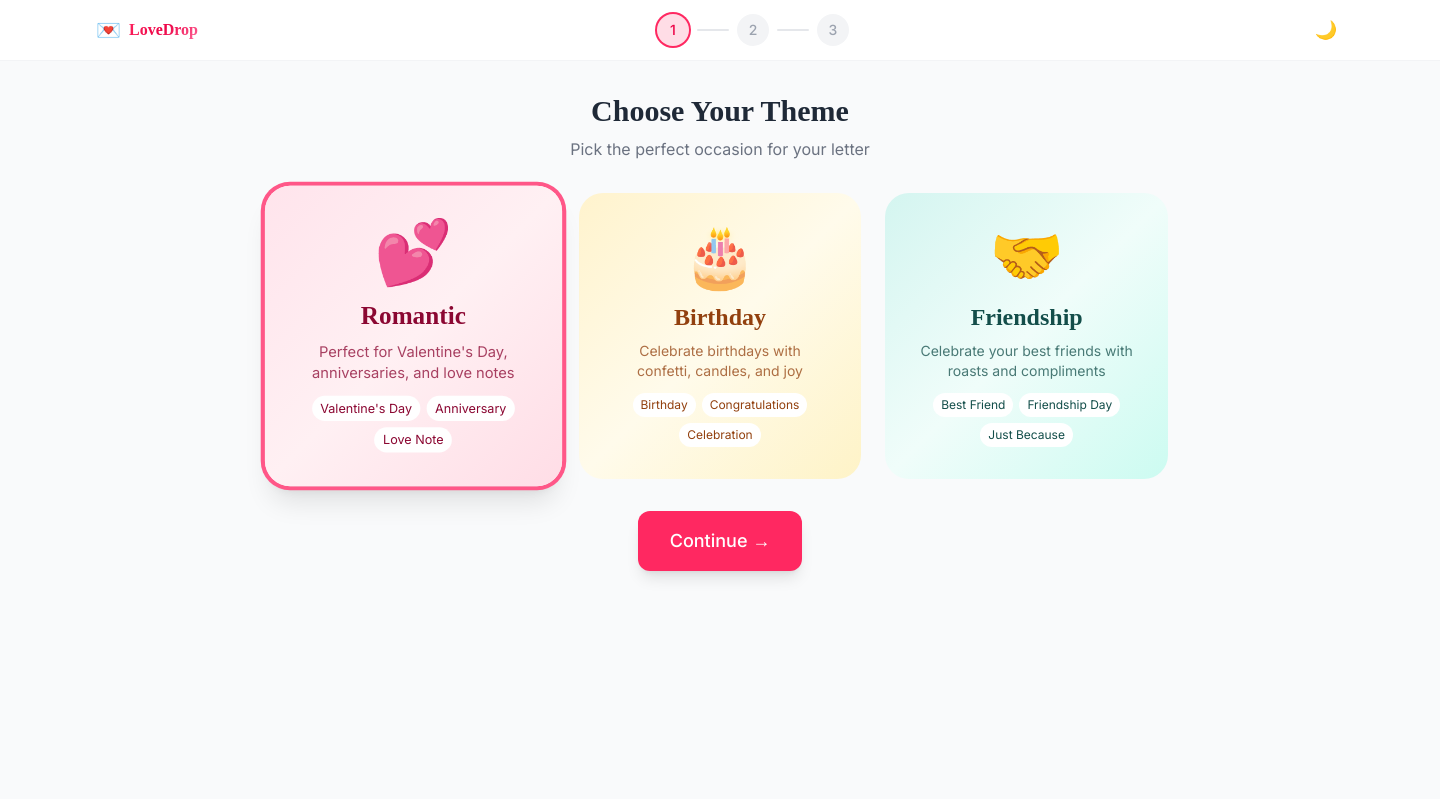
it: Create flow - Step 2: Letter editing › updates character count as user types
Click the button "Continue →" at (720,541), box 638,511 -> 802,571
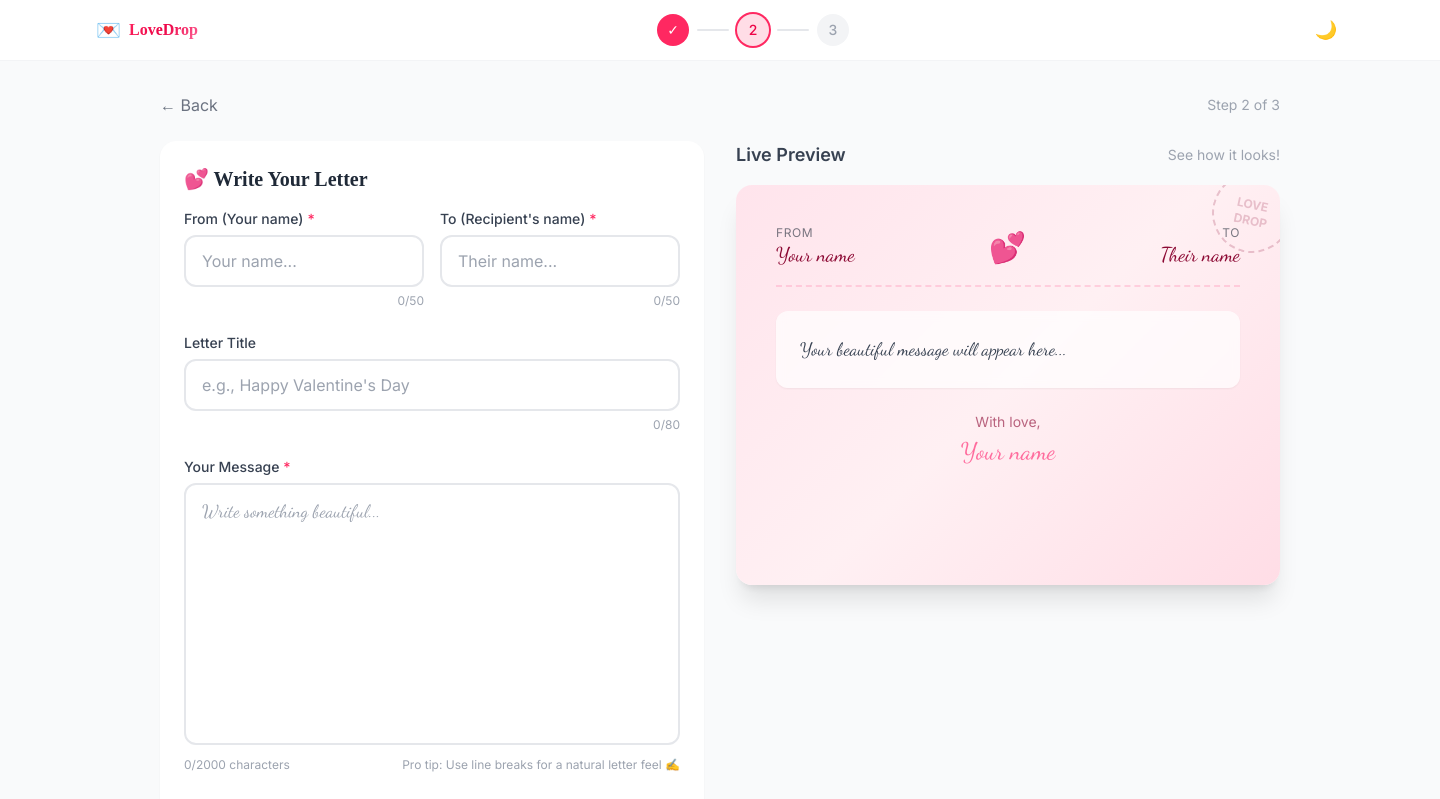
Type "Hello there!" into the text box with placeholder "Write something beautiful..." at (432,614), box 184,483 -> 680,745
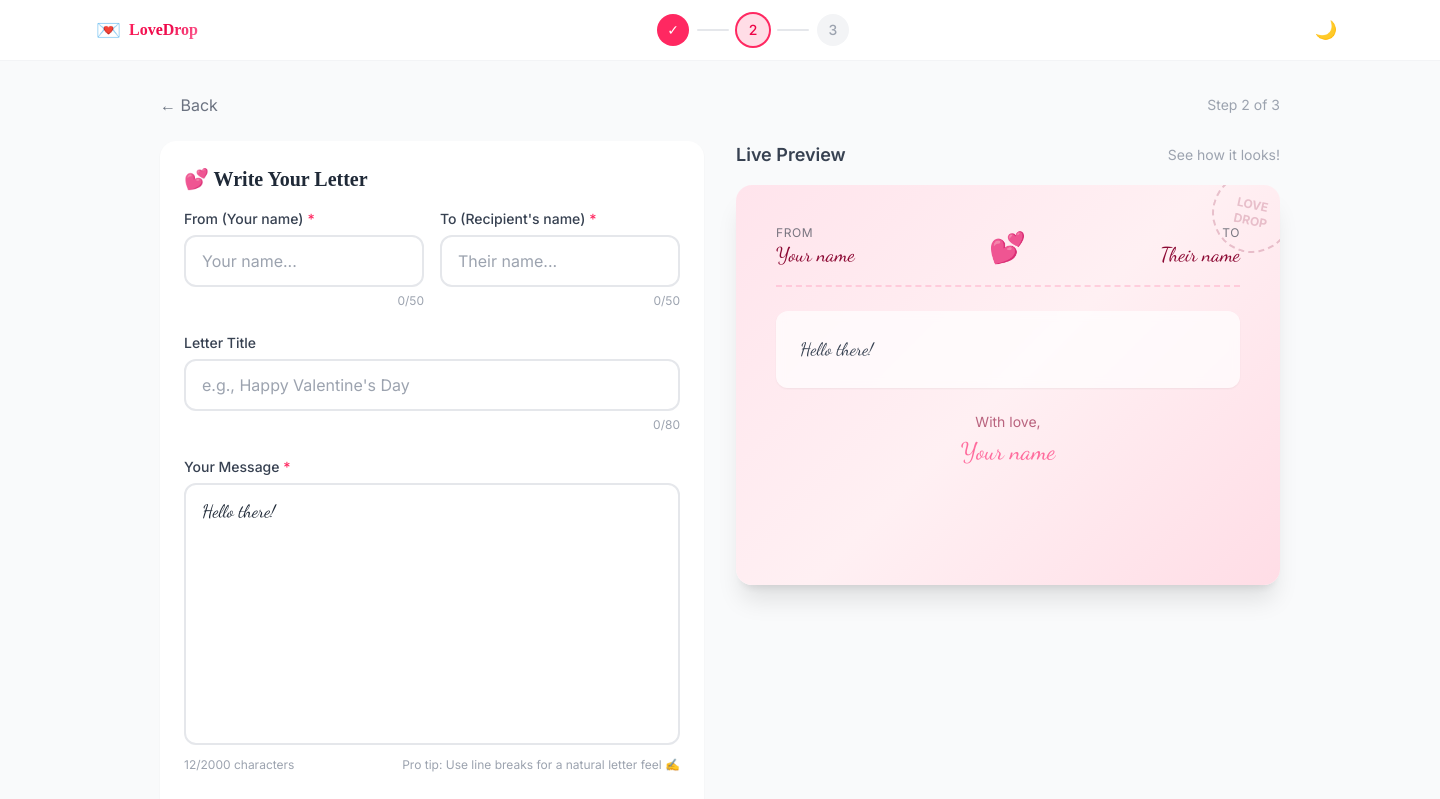
Result: the text "12/2000 characters" is shown at 184,757 -> 294,773
